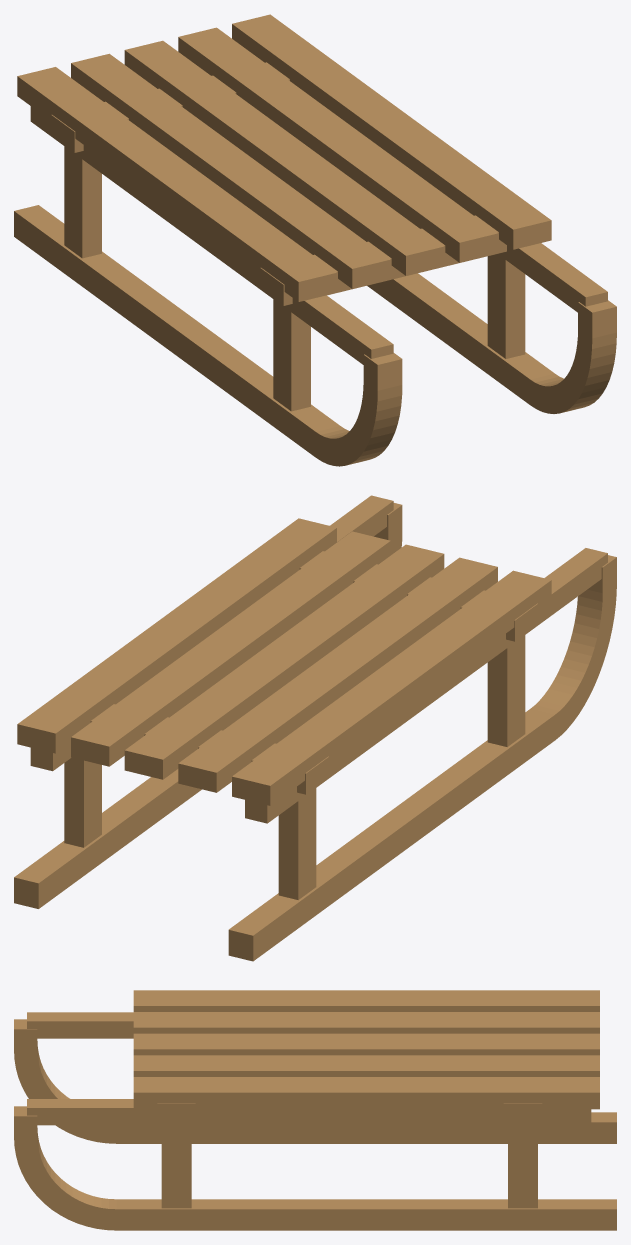
Rendered from NEW_RECOVERY_021_LOD0.glb.
The picture shows the model from 3 angles, top to bottom: view 1: azimuth 30°, elevation 25°; view 2: azimuth 150°, elevation 25°; view 3: azimuth 270°, elevation 25°; orthographic projection. The views are drawn at different scales.
Visible parts, largest first — view 1: Sled_fused_finite_frame; view 2: Sled_fused_finite_frame; view 3: Sled_fused_finite_frame.
Boxes of the visible parts, x1,y1,x2,y2 form: Sled_fused_finite_frame: (14, 14, 616, 466); Sled_fused_finite_frame: (14, 495, 616, 961); Sled_fused_finite_frame: (14, 990, 616, 1230).
Size of the model in its own units: 0.5698 by 0.363 by 1.41.
